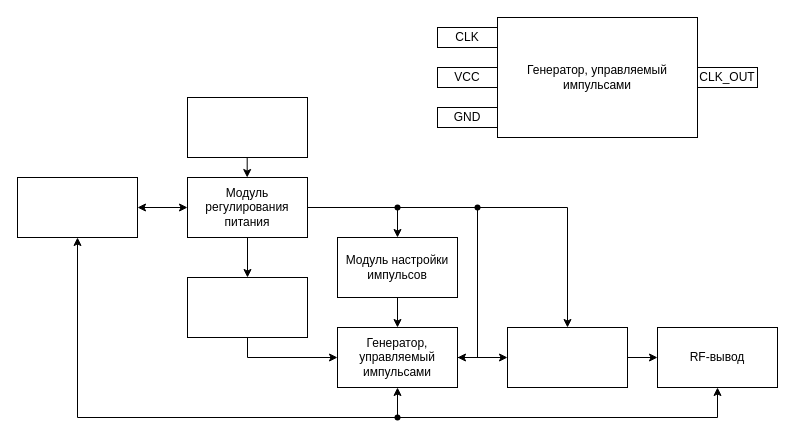
This 795x445 diagram has some shape labels left out. Each missing label, with the centre of its shape:
Генератор, управляемый напряжением: point (567, 357)
Импульсный генератор: point (247, 307)
Источник питания: point (247, 127)
Модуль развязки: point (77, 207)
